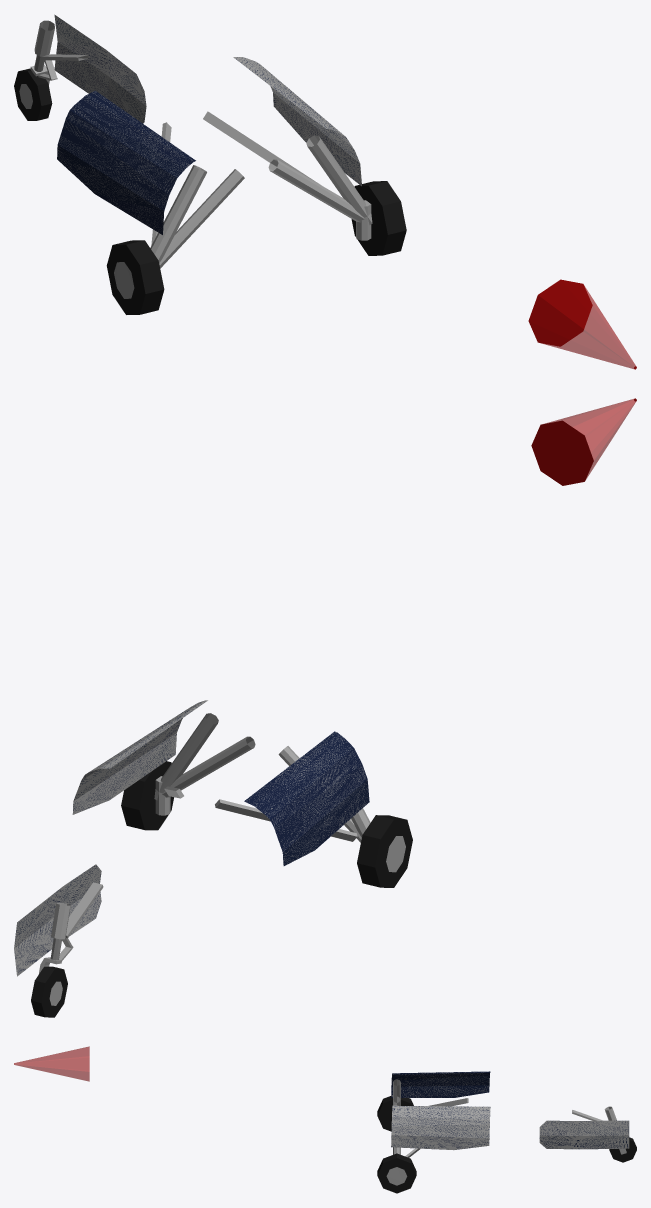
Rendered from Gear_F16_ThanderBirdsNG.obj.
3 views of the same model, one above another, from view 1: azimuth 30°, elevation 25°; view 2: azimuth 150°, elevation 25°; view 3: azimuth 270°, elevation 25° (orthographic). The views are drawn at different scales.
Parts seen in each view (by area): view 1: ShapeIndexedFaceSet.015_ShapeIndexedFaceSet.016, ShapeIndexedFaceSet.021_ShapeIndexedFaceSet.022, ShapeIndexedFaceSet.018_ShapeIndexedFaceSet.019, ShapeIndexedFaceSet.005_ShapeIndexedFaceSet.006, ShapeIndexedFaceSet.016_ShapeIndexedFaceSet.017, ShapeIndexedFaceSet.008_ShapeIndexedFaceSet.009, ShapeIndexedFaceSet.020_ShapeIndexedFaceSet.021, ShapeIndexedFaceSet.006_ShapeIndexedFaceSet.007, ShapeIndexedFaceSet.014_ShapeIndexedFaceSet.015, ShapeIndexedFaceSet.009_ShapeIndexedFaceSet.010, ShapeIndexedFaceSet.019_ShapeIndexedFaceSet.020, ShapeIndexedFaceSet.011_ShapeIndexedFaceSet.012 (+3 smaller); view 2: ShapeIndexedFaceSet.015_ShapeIndexedFaceSet.016, ShapeIndexedFaceSet.016_ShapeIndexedFaceSet.017, ShapeIndexedFaceSet.018_ShapeIndexedFaceSet.019, ShapeIndexedFaceSet.008_ShapeIndexedFaceSet.009, ShapeIndexedFaceSet.020_ShapeIndexedFaceSet.021, ShapeIndexedFaceSet.006_ShapeIndexedFaceSet.007, ShapeIndexedFaceSet.014_ShapeIndexedFaceSet.015, ShapeIndexedFaceSet.021_ShapeIndexedFaceSet.022, ShapeIndexedFaceSet.009_ShapeIndexedFaceSet.010, ShapeIndexedFaceSet.011_ShapeIndexedFaceSet.012, ShapeIndexedFaceSet.012_ShapeIndexedFaceSet.013, ShapeIndexedFaceSet.005_ShapeIndexedFaceSet.006 (+2 smaller); view 3: ShapeIndexedFaceSet.016_ShapeIndexedFaceSet.017, ShapeIndexedFaceSet.018_ShapeIndexedFaceSet.019, ShapeIndexedFaceSet.015_ShapeIndexedFaceSet.016, ShapeIndexedFaceSet.021_ShapeIndexedFaceSet.022, ShapeIndexedFaceSet.017_ShapeIndexedFaceSet.018, ShapeIndexedFaceSet.009_ShapeIndexedFaceSet.010, ShapeIndexedFaceSet.019_ShapeIndexedFaceSet.020, ShapeIndexedFaceSet.014_ShapeIndexedFaceSet.015, ShapeIndexedFaceSet.006_ShapeIndexedFaceSet.007, ShapeIndexedFaceSet.008_ShapeIndexedFaceSet.009, ShapeIndexedFaceSet.012_ShapeIndexedFaceSet.013, ShapeIndexedFaceSet.011_ShapeIndexedFaceSet.012.
Part boxes in pixels (box(x1,y1,x2,y2)): ShapeIndexedFaceSet.015_ShapeIndexedFaceSet.016: box(57, 90, 195, 234); ShapeIndexedFaceSet.021_ShapeIndexedFaceSet.022: box(529, 280, 635, 368); ShapeIndexedFaceSet.018_ShapeIndexedFaceSet.019: box(54, 14, 146, 123); ShapeIndexedFaceSet.005_ShapeIndexedFaceSet.006: box(114, 165, 244, 298); ShapeIndexedFaceSet.016_ShapeIndexedFaceSet.017: box(233, 57, 361, 186); ShapeIndexedFaceSet.008_ShapeIndexedFaceSet.009: box(268, 135, 372, 240); ShapeIndexedFaceSet.020_ShapeIndexedFaceSet.021: box(528, 279, 636, 369); ShapeIndexedFaceSet.006_ShapeIndexedFaceSet.007: box(106, 240, 164, 314); ShapeIndexedFaceSet.014_ShapeIndexedFaceSet.015: box(57, 91, 193, 232); ShapeIndexedFaceSet.009_ShapeIndexedFaceSet.010: box(351, 181, 406, 255); ShapeIndexedFaceSet.019_ShapeIndexedFaceSet.020: box(54, 15, 145, 122); ShapeIndexedFaceSet.011_ShapeIndexedFaceSet.012: box(19, 20, 88, 108); ShapeIndexedFaceSet.015_ShapeIndexedFaceSet.016: box(244, 731, 369, 865); ShapeIndexedFaceSet.016_ShapeIndexedFaceSet.017: box(72, 700, 207, 814); ShapeIndexedFaceSet.018_ShapeIndexedFaceSet.019: box(14, 864, 101, 976); ShapeIndexedFaceSet.008_ShapeIndexedFaceSet.009: box(154, 713, 255, 815); ShapeIndexedFaceSet.020_ShapeIndexedFaceSet.021: box(531, 398, 636, 485); ShapeIndexedFaceSet.006_ShapeIndexedFaceSet.007: box(357, 815, 412, 887); ShapeIndexedFaceSet.014_ShapeIndexedFaceSet.015: box(246, 732, 367, 864); ShapeIndexedFaceSet.021_ShapeIndexedFaceSet.022: box(544, 398, 636, 479); ShapeIndexedFaceSet.009_ShapeIndexedFaceSet.010: box(121, 761, 173, 830); ShapeIndexedFaceSet.011_ShapeIndexedFaceSet.012: box(38, 882, 103, 1005); ShapeIndexedFaceSet.012_ShapeIndexedFaceSet.013: box(31, 966, 67, 1017); ShapeIndexedFaceSet.005_ShapeIndexedFaceSet.006: box(278, 746, 405, 872); ShapeIndexedFaceSet.016_ShapeIndexedFaceSet.017: box(391, 1105, 490, 1150); ShapeIndexedFaceSet.018_ShapeIndexedFaceSet.019: box(539, 1120, 629, 1149); ShapeIndexedFaceSet.015_ShapeIndexedFaceSet.016: box(391, 1071, 490, 1097); ShapeIndexedFaceSet.021_ShapeIndexedFaceSet.022: box(14, 1046, 89, 1081); ShapeIndexedFaceSet.017_ShapeIndexedFaceSet.018: box(391, 1106, 490, 1148); ShapeIndexedFaceSet.009_ShapeIndexedFaceSet.010: box(377, 1153, 416, 1193); ShapeIndexedFaceSet.019_ShapeIndexedFaceSet.020: box(539, 1120, 629, 1149); ShapeIndexedFaceSet.014_ShapeIndexedFaceSet.015: box(391, 1071, 489, 1097); ShapeIndexedFaceSet.006_ShapeIndexedFaceSet.007: box(377, 1096, 413, 1131); ShapeIndexedFaceSet.008_ShapeIndexedFaceSet.009: box(386, 1147, 407, 1185); ShapeIndexedFaceSet.012_ShapeIndexedFaceSet.013: box(609, 1137, 636, 1162); ShapeIndexedFaceSet.011_ShapeIndexedFaceSet.012: box(572, 1106, 626, 1154).
Bounding box in the file's own units: 26.81 × 21.85 × 108.
